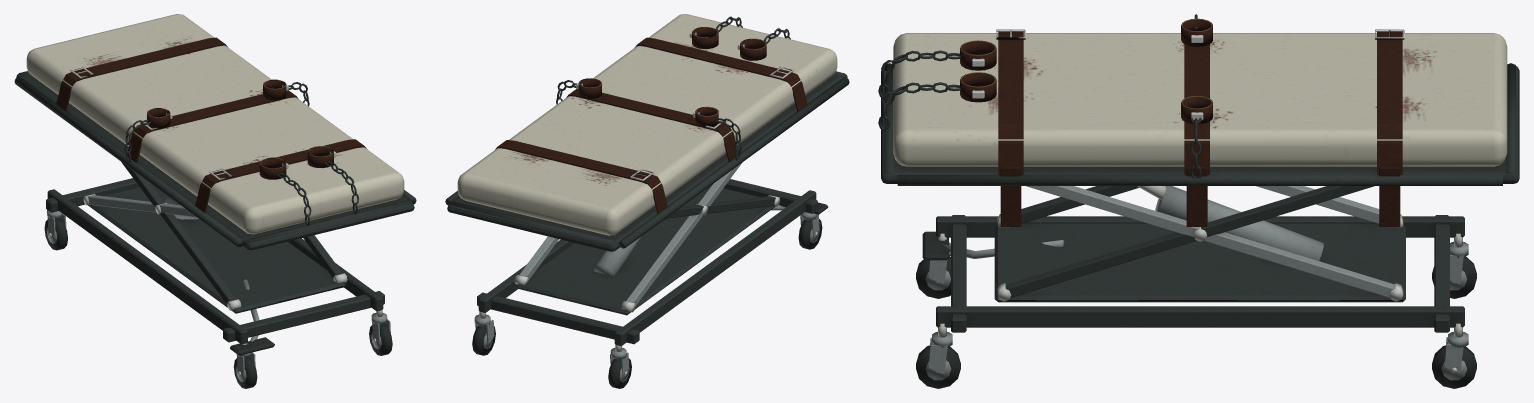
Rendered from restraint_table.glb.
3 views of the same model, side by side, from view 1: azimuth 30°, elevation 25°; view 2: azimuth 150°, elevation 25°; view 3: azimuth 270°, elevation 25° (orthographic). The views are drawn at different scales.
Visible parts, largest first — view 1: Asylum rolling restraint table; view 2: Asylum rolling restraint table; view 3: Asylum rolling restraint table.
Boxes of the visible parts, left/top/right/bottom form: Asylum rolling restraint table: left=14, top=14, right=416, bottom=388; Asylum rolling restraint table: left=445, top=14, right=849, bottom=388; Asylum rolling restraint table: left=878, top=14, right=1519, bottom=388.
Bounding box in the file's own units: 0.893 × 0.9356 × 1.96.
Materials: 1 (1 with a texture image).
